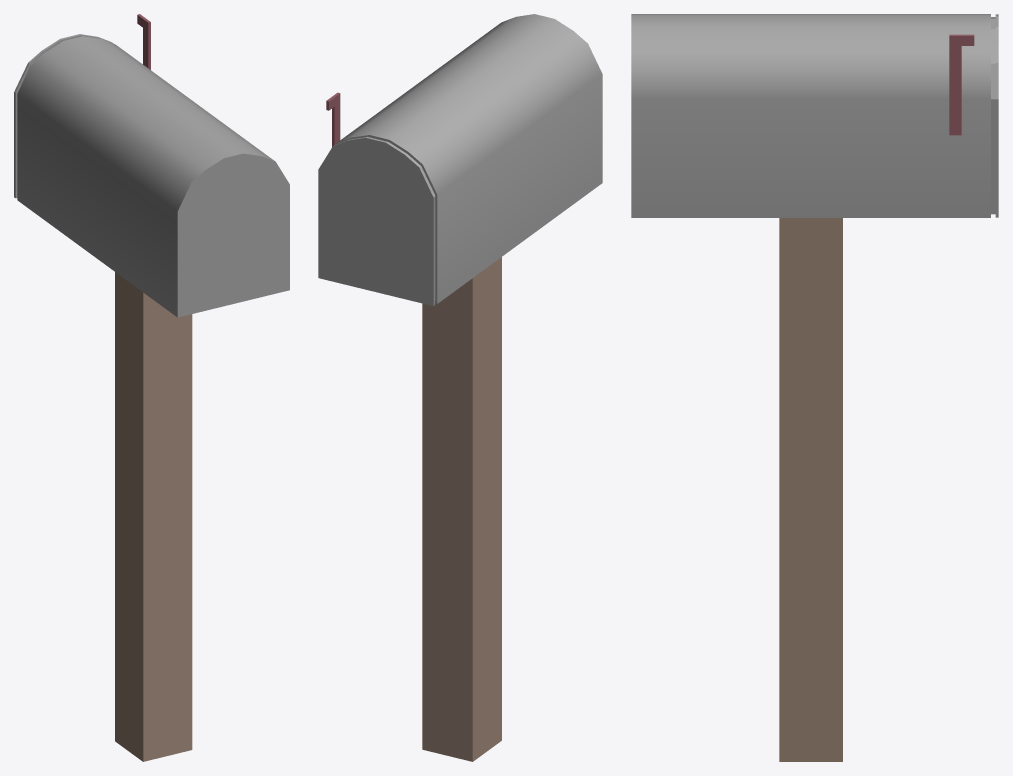
The model's file is mailbox.fbx.
The picture shows the model from 3 angles, left to right: view 1: azimuth 30°, elevation 25°; view 2: azimuth 150°, elevation 25°; view 3: azimuth 270°, elevation 25°; orthographic projection. The views are drawn at different scales.
Visible parts, largest first — view 1: pasted__polySurface952; view 2: pasted__polySurface952; view 3: pasted__polySurface952.
Part boxes in pixels (x1,y1,x2,y2): pasted__polySurface952: [14, 14, 289, 761]; pasted__polySurface952: [318, 14, 602, 761]; pasted__polySurface952: [631, 14, 998, 761].
Bounding box in the file's own units: 1.12 × 6.15 × 2.75.
